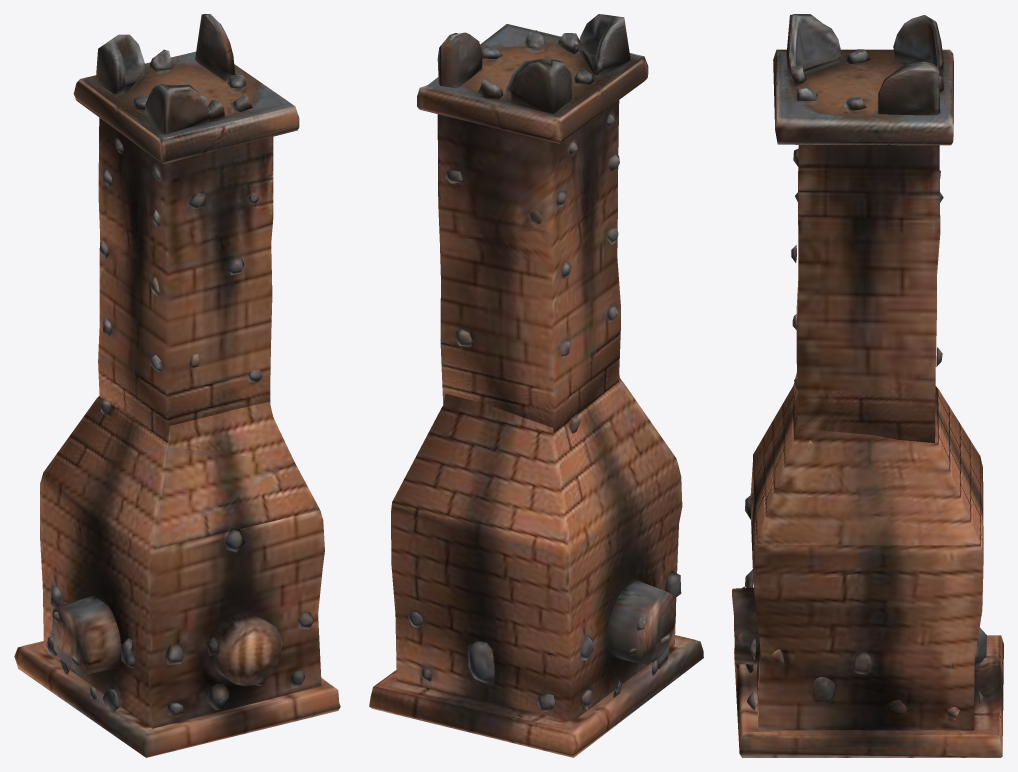
Rendered from fj_chamine.glb.
The picture shows the model from 3 angles, left to right: view 1: azimuth 30°, elevation 25°; view 2: azimuth 150°, elevation 25°; view 3: azimuth 270°, elevation 25°; orthographic projection. The views are drawn at different scales.
Visible parts, largest first — view 1: Mesh_0.1184; view 2: Mesh_0.1184; view 3: Mesh_0.1184.
Boxes of the visible parts, x1,y1,x2,y2 form: Mesh_0.1184: [14, 14, 340, 757]; Mesh_0.1184: [369, 14, 703, 757]; Mesh_0.1184: [732, 14, 1003, 757].
Size of the model in its own units: 0.1924 by 0.5391 by 0.1973.
Materials: 1 (1 with a texture image).
